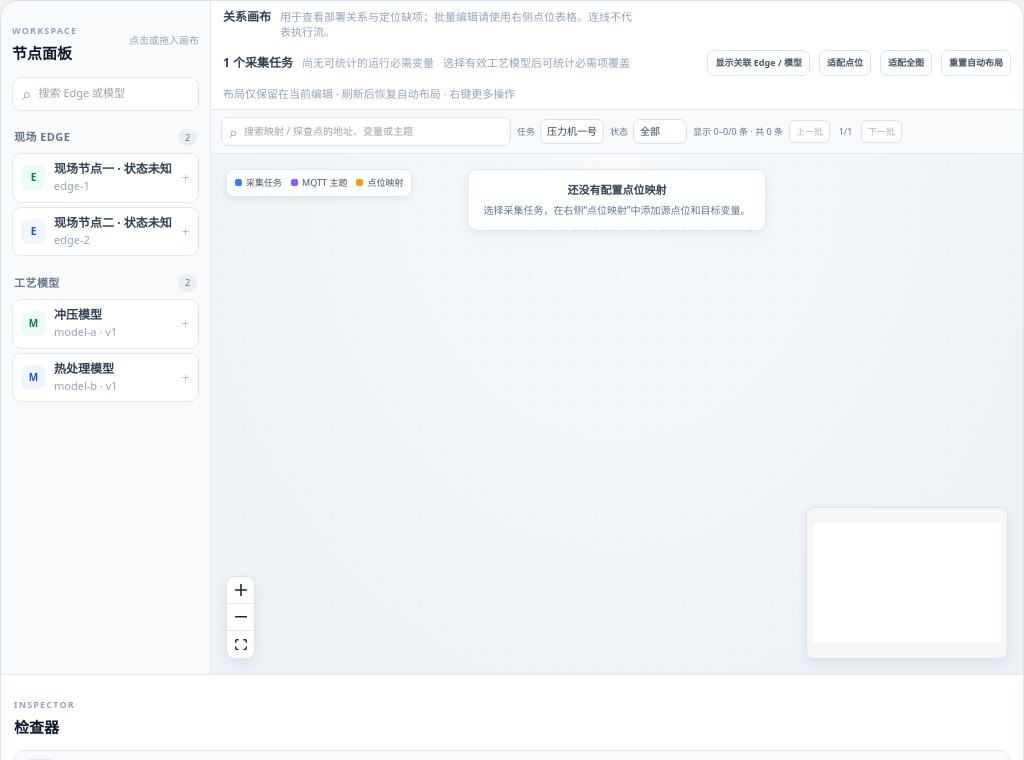
Test: 采集关系画布 › 按 Edge 和工艺模型筛选节点面板
Type "edge-2" into the field named "筛选节点" at (114, 94), box [38, 85, 189, 102]
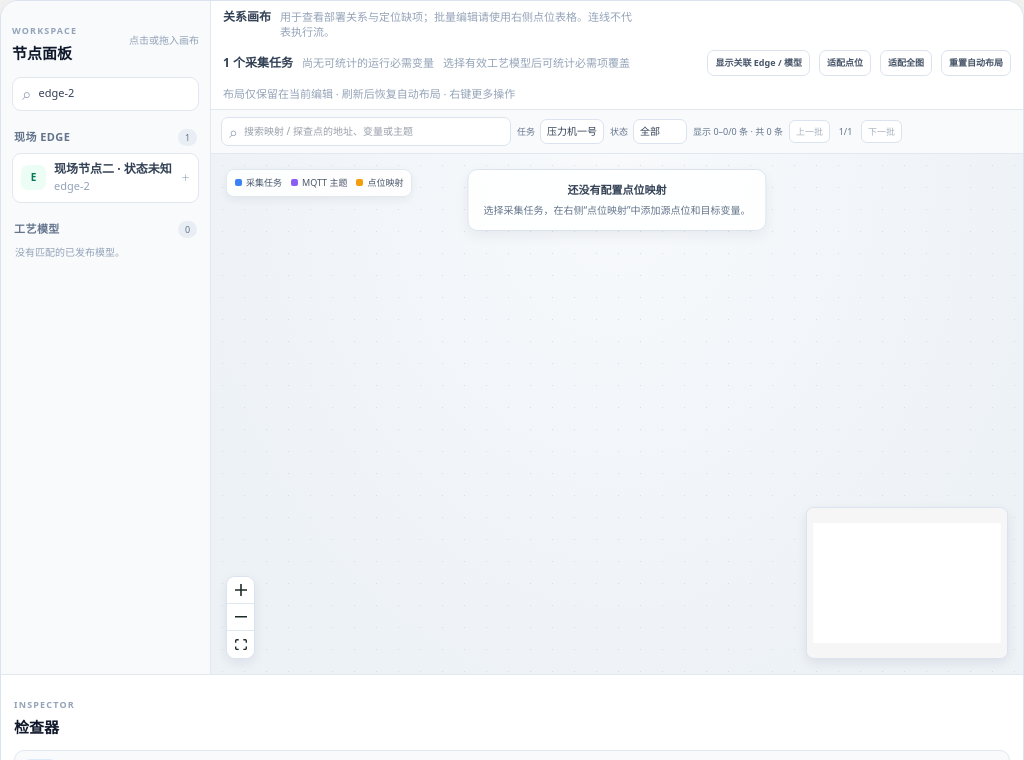
Expected: the button "E 现场节点二 · 状态未知 edge-2 ＋" is shown, [12, 153, 199, 203]
Now the button "现场节点一" is gone
Now the button "冲压模型" is gone
